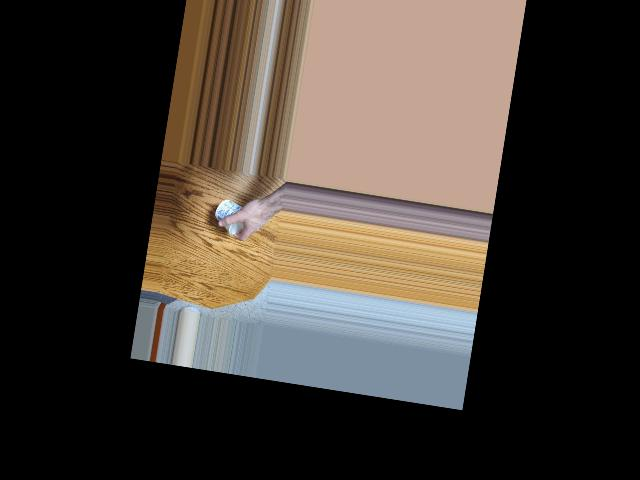cotage: (213, 196, 250, 235)
